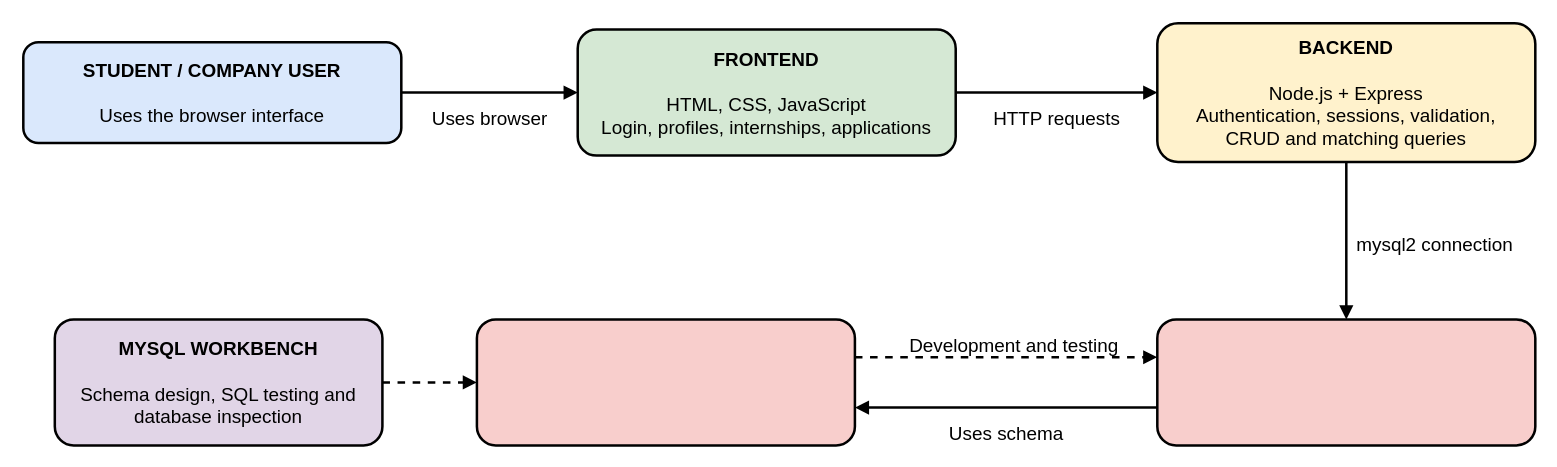
This 1557x467 diagram has some shape labels left out. Each missing label, with the centre of its shape:
"MYSQL COMMUNITY SERVER Database engine for queries, transactions and connections" goes at point (1345, 382).
"SMARTINTERN_DB SCHEMA Tables, relationships, constraints and business data" goes at point (665, 382).
